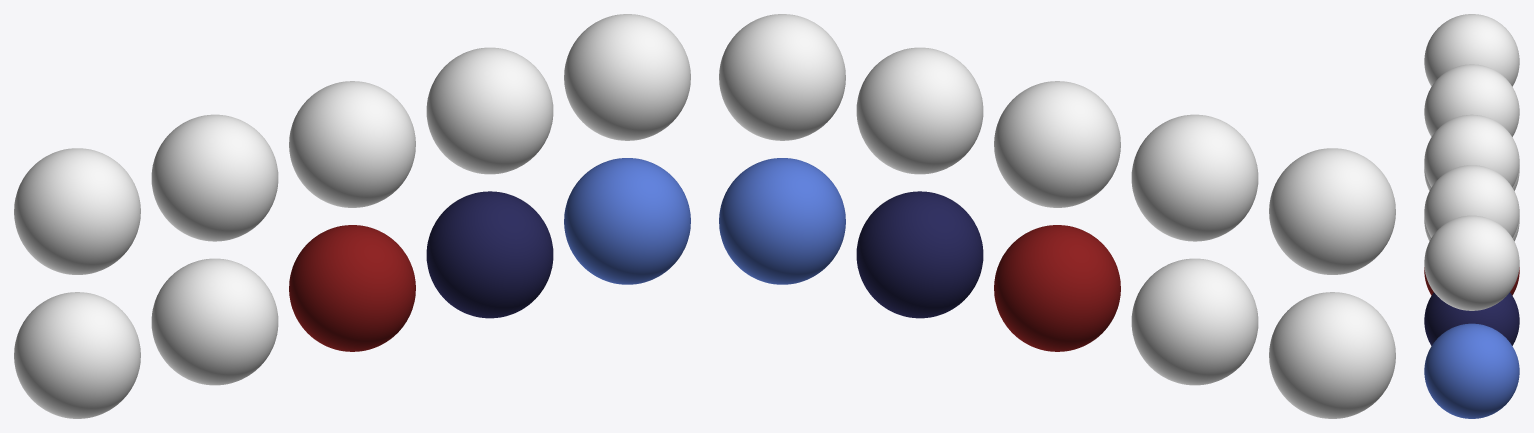
The model's file is anisotropy_layers.gltf.
3 renders of one model, left to right at view 1: azimuth 30°, elevation 25°; view 2: azimuth 150°, elevation 25°; view 3: azimuth 270°, elevation 25°, orthographic. The views are drawn at different scales.
Size of the model in its own units: 4.8 by 1.8 by 0.8.
